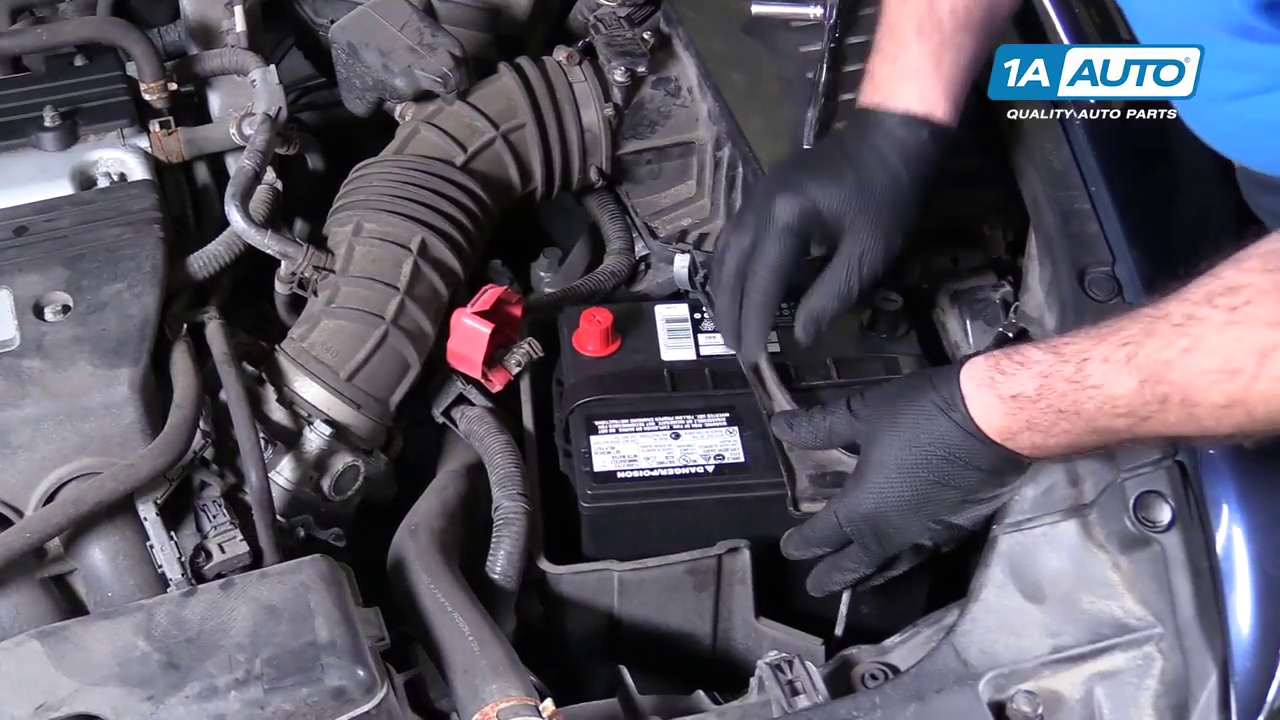battery: (555, 288, 943, 509)
pos_disconnected: (431, 273, 631, 401)
